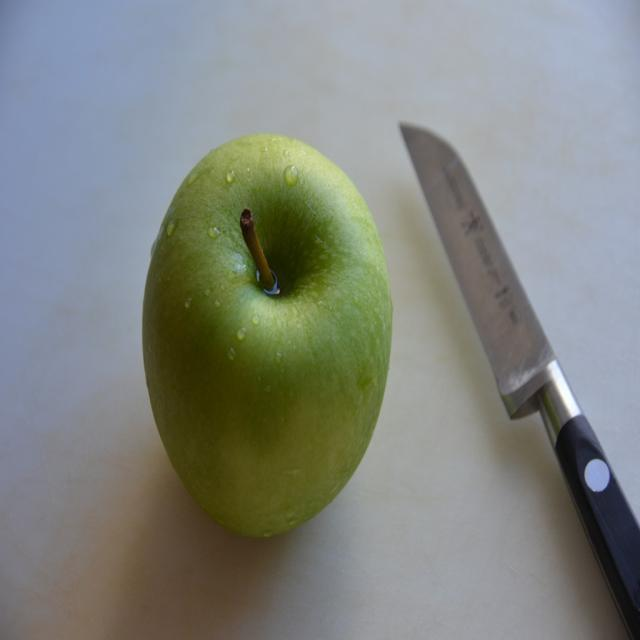Knife: (400, 124, 640, 639)
